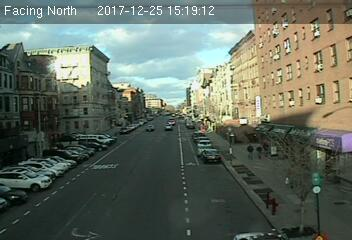car: (202, 147, 220, 162)
